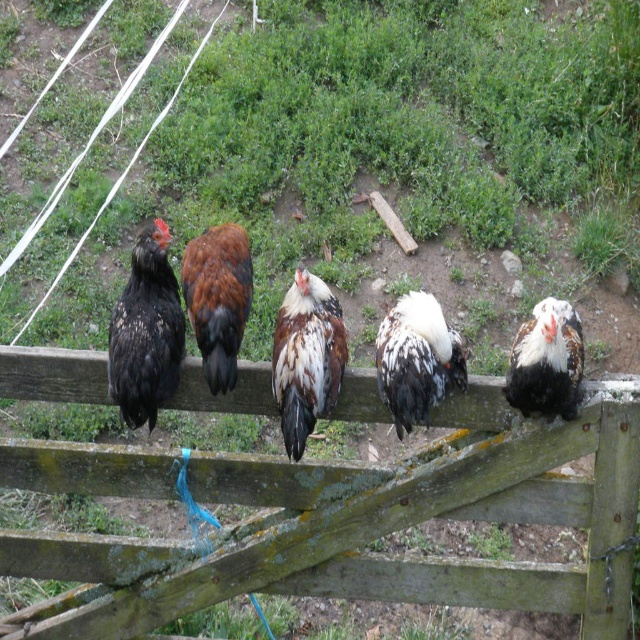Chicken: (270, 259, 354, 470), (371, 290, 478, 449), (104, 217, 183, 427), (176, 223, 258, 402), (510, 294, 590, 428)
